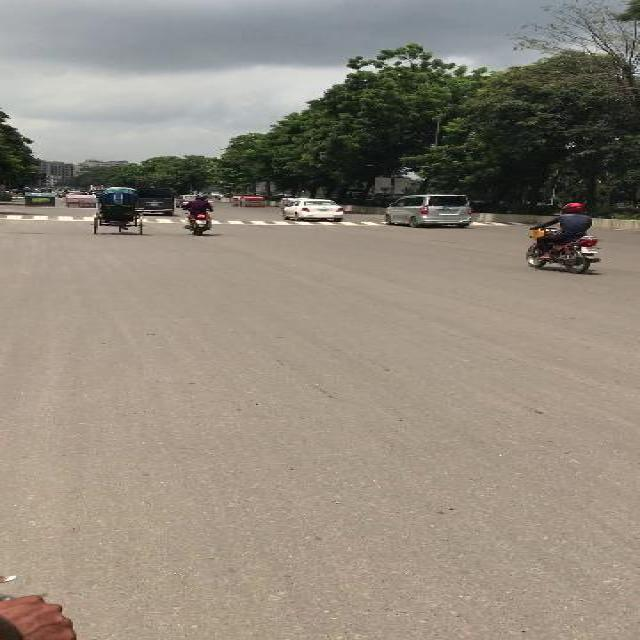bike: (526, 202, 604, 275), (184, 205, 214, 237)
vehicle: (383, 194, 477, 229), (95, 188, 138, 234), (278, 199, 346, 223), (141, 189, 175, 214), (177, 195, 195, 205)
